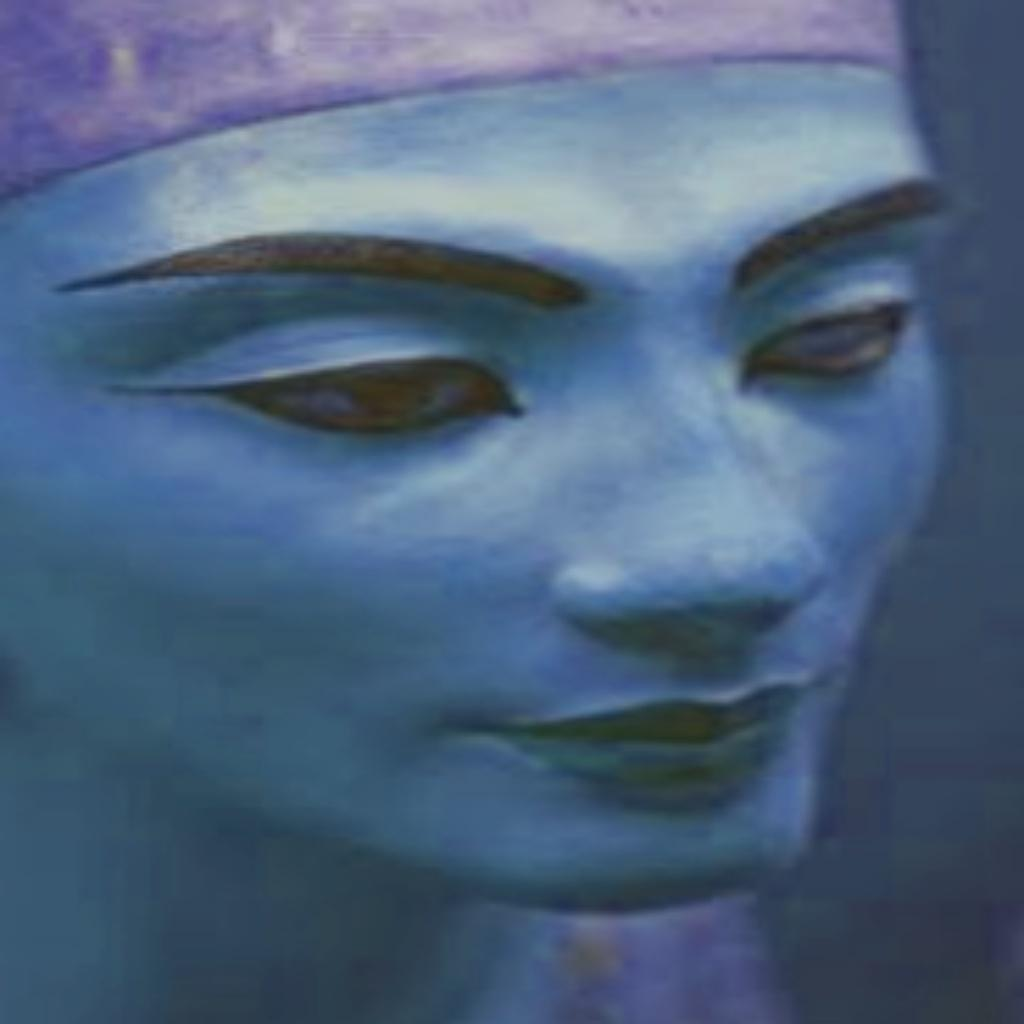Nefertiti: (0, 0, 1018, 1020)
